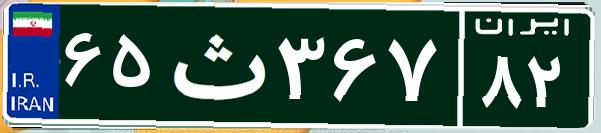2: (525, 38, 570, 115)
3: (273, 28, 330, 110)
5: (110, 28, 158, 105)
6: (330, 28, 385, 110), (57, 26, 110, 107)
7: (385, 28, 445, 110)
8: (475, 38, 525, 113)
ث: (158, 15, 273, 115)
